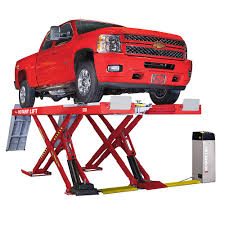Scissor Lift: (5, 94, 217, 198)
